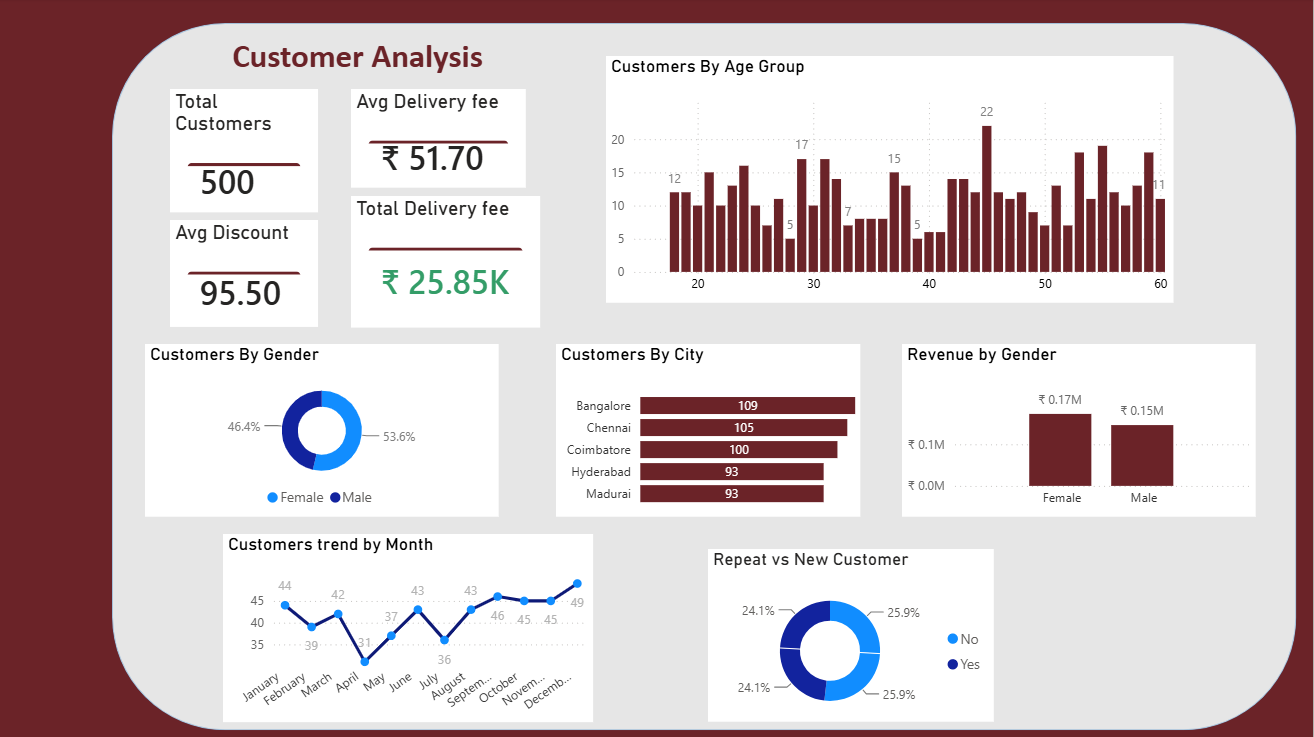

What the dashboard file says about the page in this screenshot:
{"tool":"powerbi","page":{"name":"Customer Analysis","canvas":[1280,720],"ordinal":3},"visuals":[{"type":"shape","box":[88,24,1192,688],"z":0,"group":"g1"},{"type":"textbox","box":[170,31.6,260.8,68.8],"z":1000,"group":"g1"},{"type":"cardVisual","title":"Total Customers","fields":{"Data":["CountNonNull(Sheet.Order_ID)"]},"box":[192,96,152,96],"z":2000,"group":"g1"},{"type":"cardVisual","title":"Avg Delivery fee","fields":{"Data":["Sheet.avg delivery"]},"box":[352,96,176,96],"z":3000,"group":"g1"},{"type":"cardVisual","title":"Avg Discount","fields":{"Data":["Sheet.Avg discount"]},"box":[192,208,152,96],"z":4000,"group":"g1"},{"type":"clusteredColumnChart","title":"Customers By Age Group","fields":{"Category":["Sheet.Age"],"Y":["CountNonNull(Sheet.Customer_ID)"]},"box":[602.1,69.9,573.6,183.5],"z":5000,"group":"g1"},{"type":"donutChart","title":"Customers By Gender","fields":{"Category":["Sheet.Gender"],"Y":["CountNonNull(Sheet.Customer_ID)"]},"box":[192,320,280,184],"z":6000,"group":"g1"},{"type":"clusteredBarChart","title":"Customers By City","fields":{"Category":["Sheet.City"],"Y":["CountNonNull(Sheet.Customer_ID)"]},"box":[544,312,304,192],"z":7000,"group":"g1"},{"type":"clusteredColumnChart","title":" Revenue by Gender","fields":{"Category":["Sheet.Gender"],"Y":["Sheet.Total Revenue"]},"box":[880,288,360,224],"z":8000,"group":"g1"},{"type":"donutChart","title":"Repeat vs New Customer","fields":{"Category":["Sheet.Repeat_Customer"],"Y":["CountNonNull(Sheet.Customer_ID)","CountNonNull(Sheet.Order_ID)"]},"box":[688,536,288,168],"z":9000,"group":"g1"},{"type":"lineChart","title":" Customers trend by Month","fields":{"Category":["Sheet.Order_Date.Variation.Date Hierarchy.Month"],"Y":["Sheet.tota customers"]},"box":[199.8,520.9,372.5,183.5],"z":10000,"group":"g1"},{"type":"cardVisual","title":"Total Delivery fee","fields":{"Data":["Sheet.total delivery"]},"box":[352,208,184,96],"z":11000,"group":"g1"},{"type":"group","id":"g1","title":"Group 1","box":[88,24,1192,688],"z":11001}]}

Visuals, with their boxes in screenshot pixels (x1, y1, x2, y2), scaled from the page's 1280x720 canvas onto the 1314x737 screenshot:
shape: box(90, 25, 1313, 729)
textbox: box(175, 32, 442, 103)
"Total Customers" cardVisual: box(197, 98, 353, 197)
"Avg Delivery fee" cardVisual: box(361, 98, 542, 197)
"Avg Discount" cardVisual: box(197, 213, 353, 311)
"Customers By Age Group" clusteredColumnChart: box(618, 72, 1207, 259)
"Customers By Gender" donutChart: box(197, 328, 485, 516)
"Customers By City" clusteredBarChart: box(558, 319, 871, 516)
" Revenue by Gender" clusteredColumnChart: box(903, 295, 1273, 524)
"Repeat vs New Customer" donutChart: box(706, 549, 1002, 721)
" Customers trend by Month" lineChart: box(205, 533, 588, 721)
"Total Delivery fee" cardVisual: box(361, 213, 550, 311)
"Group 1" group: box(90, 25, 1313, 729)
